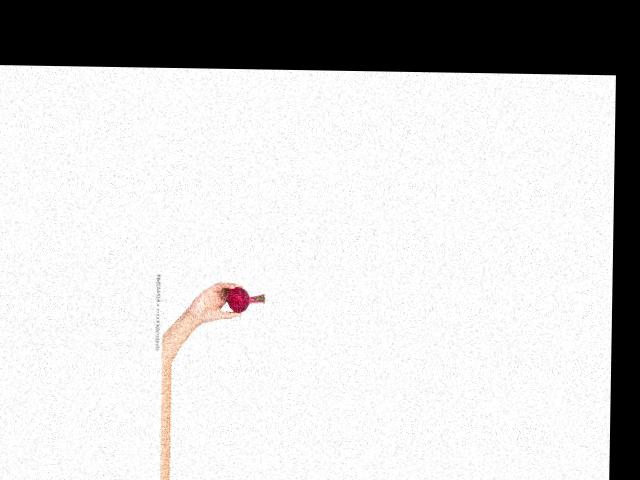beet: (227, 286, 265, 312)
